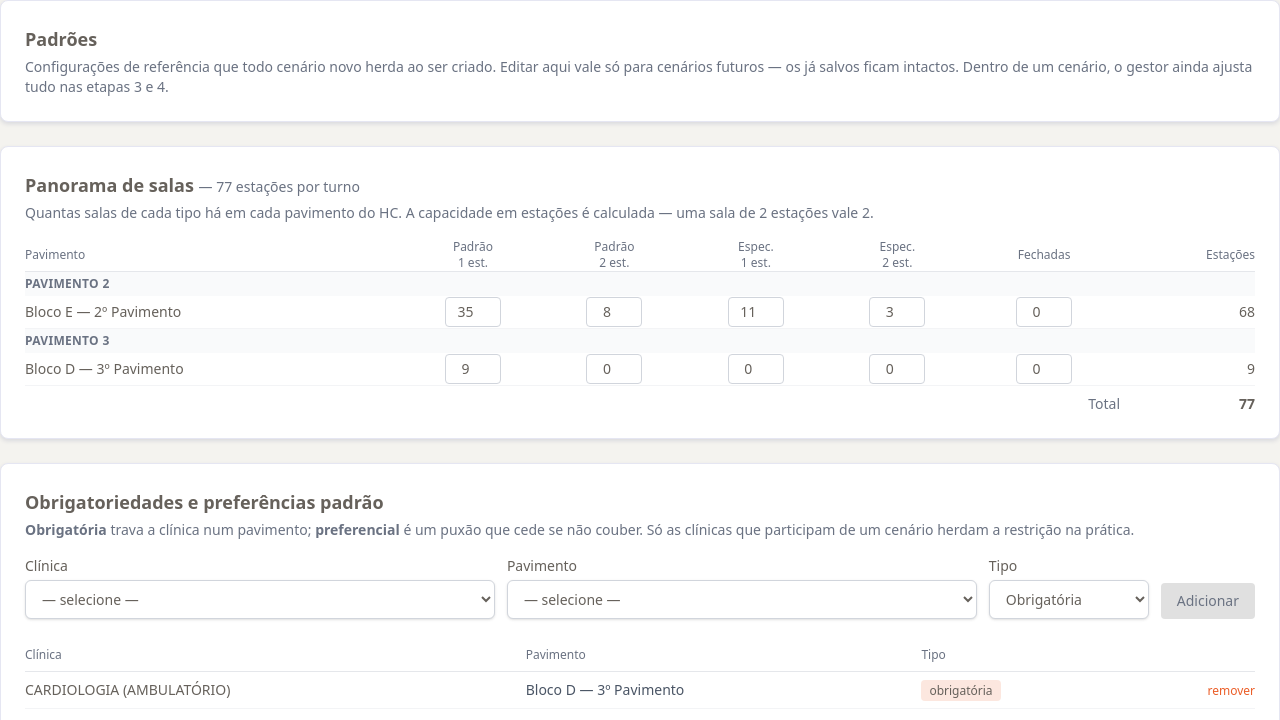
Test: SaaPadroes.vue › remove uma regra padrão (DELETE devolve só removida)
Click the button "remover". click: [1231, 691]
box: top-left (1208, 683), bottom-right (1255, 699)
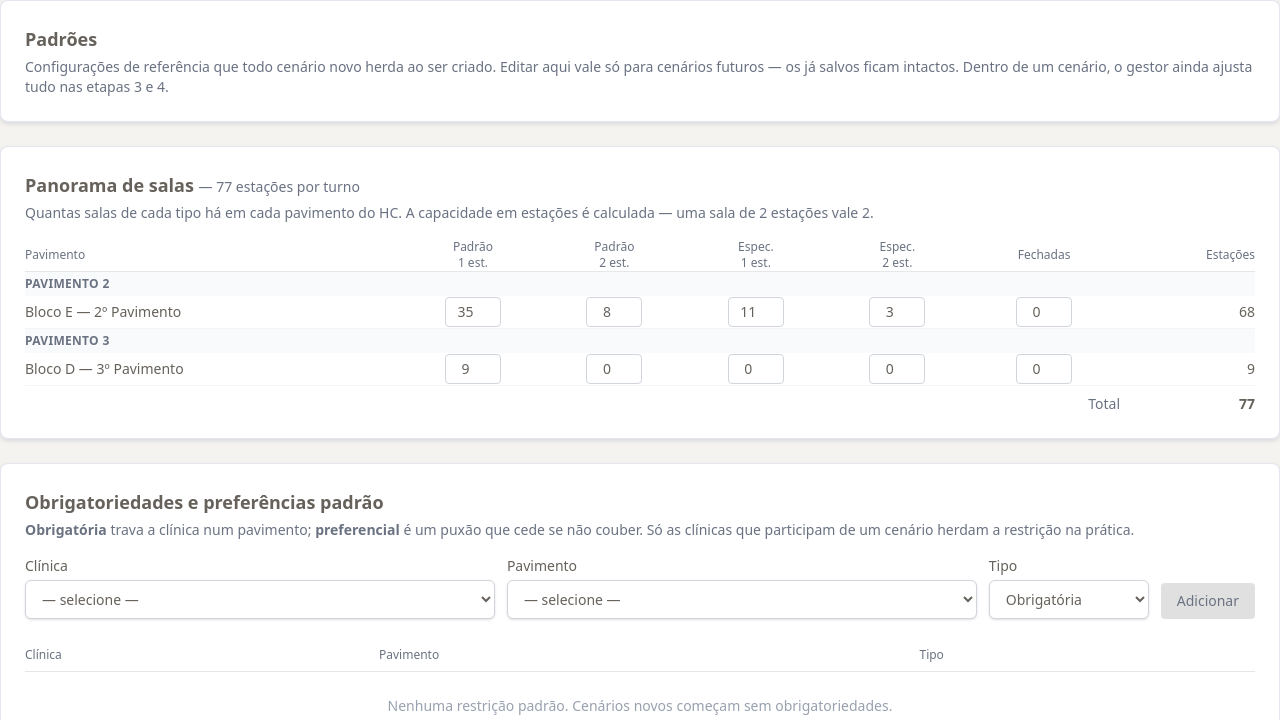
Result: the text "Nenhuma restrição padrão" is shown at top-left (388, 696), bottom-right (892, 715)
